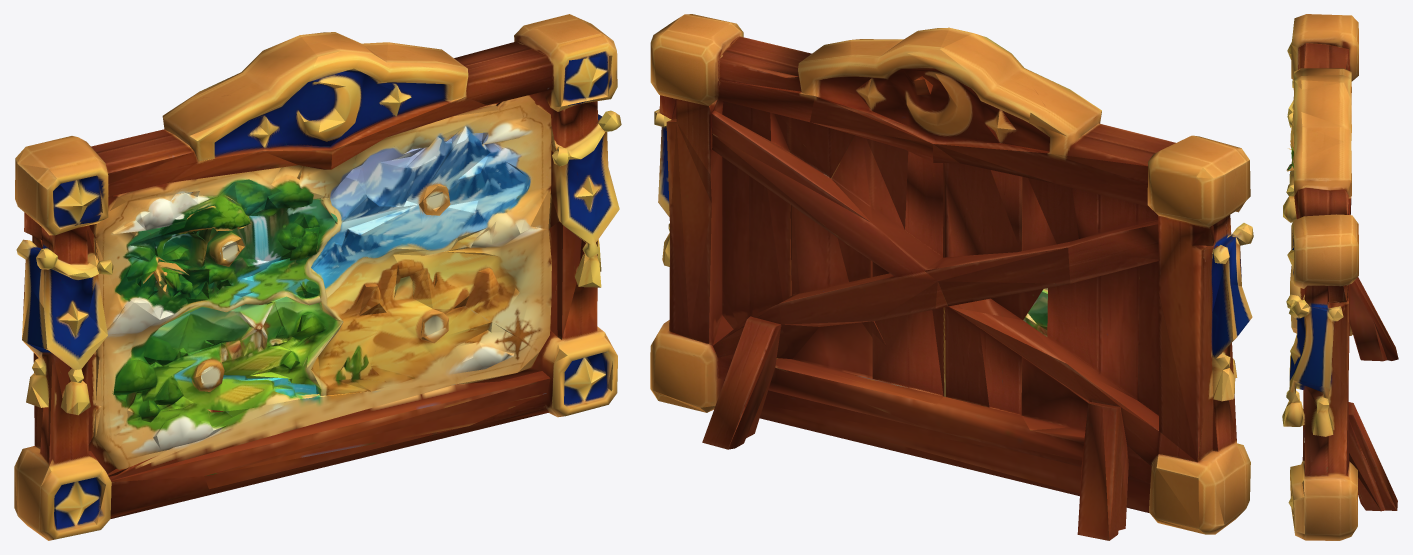
Rendered from MapBoard.fbx.
3 renders of one model, left to right at view 1: azimuth 30°, elevation 25°; view 2: azimuth 150°, elevation 25°; view 3: azimuth 270°, elevation 25°, orthographic. The views are drawn at different scales.
Visible parts, largest first — view 1: output_unwrapped; view 2: output_unwrapped; view 3: output_unwrapped.
Boxes of the visible parts, bbox=[...] form: output_unwrapped: bbox=[14, 14, 621, 540]; output_unwrapped: bbox=[650, 14, 1253, 540]; output_unwrapped: bbox=[1282, 14, 1398, 540].
Bounding box in the file's own units: 190 × 132 × 40.08.
Materials: 1 (1 with a texture image).
